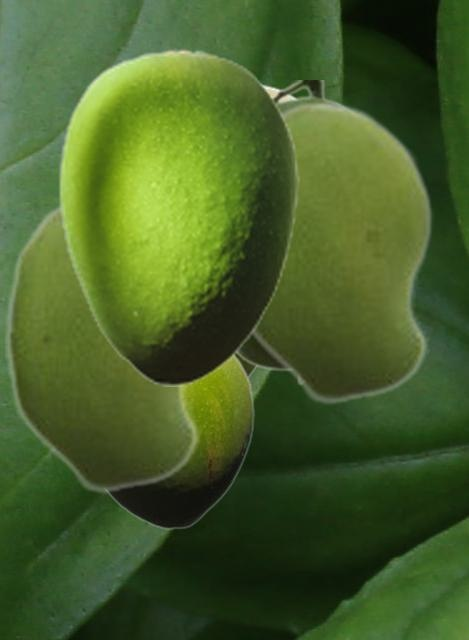green_mango: (57, 48, 298, 385), (5, 201, 203, 494), (252, 100, 433, 405), (236, 80, 346, 385), (107, 355, 254, 529)
